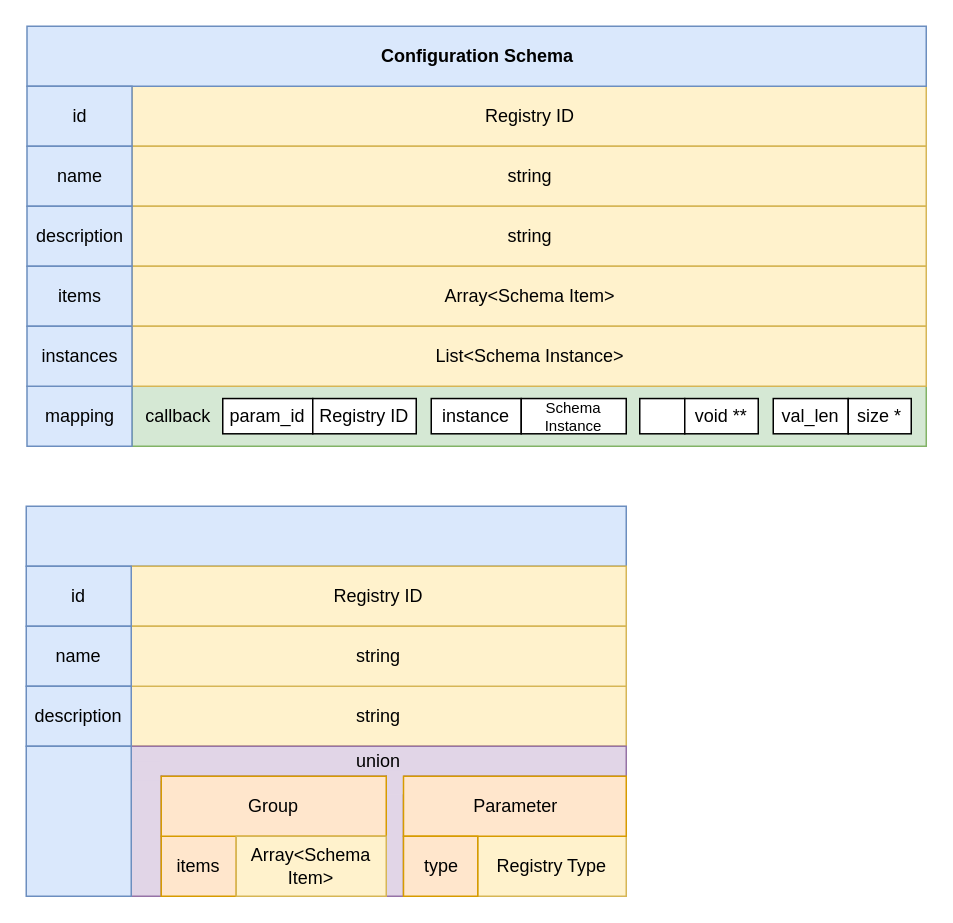
Image size: 953x923. Some labels were removed from this diagram. Each missing label, with the centre of its shape:
Schema Item: point 325,535
val: point 661,415
value: point 78,820
